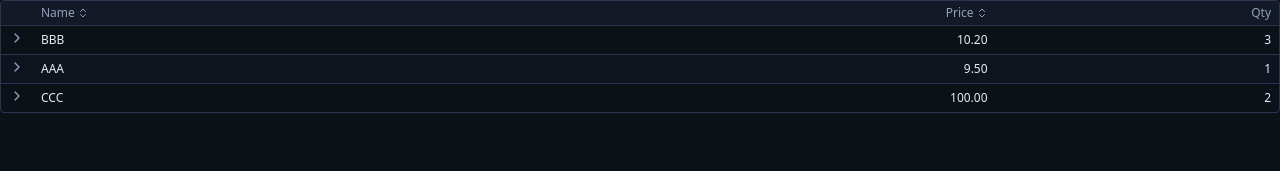
Test: DataTable — expandable rows (renderExpanded) › also toggles from a desktop-row mouse click as a convenience (button stopPropagations, so no double-toggle)
The width and height of the screenshot is (1280, 171).
Click the row "BBB 10.20 3". click: (640, 40)
box: [1,26,1279,54]
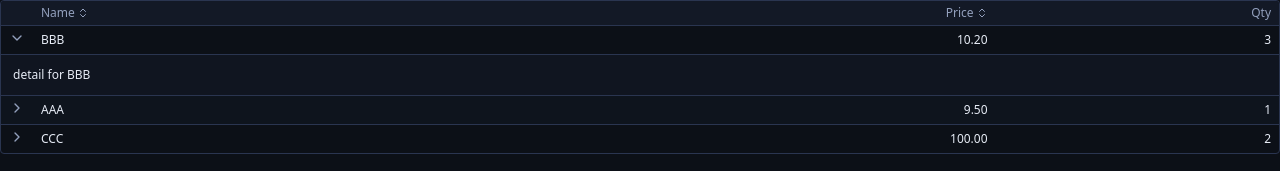
Expected: the text "detail for BBB" is shown, [13,66,90,83]
